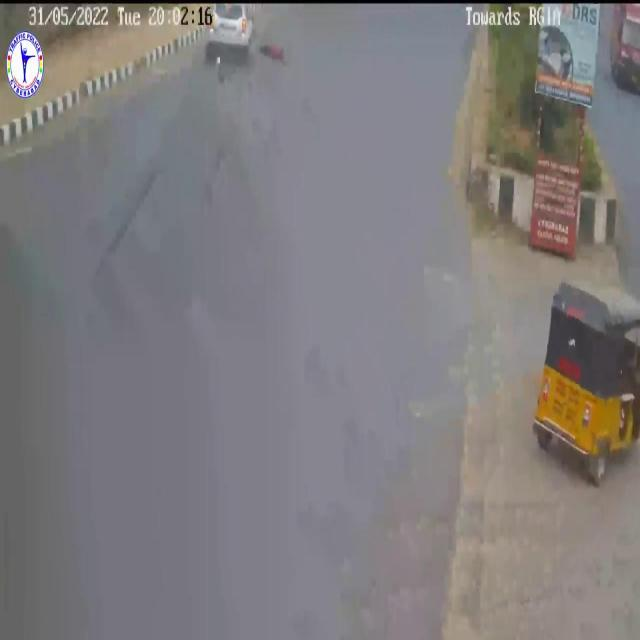accident: (198, 0, 287, 84)
